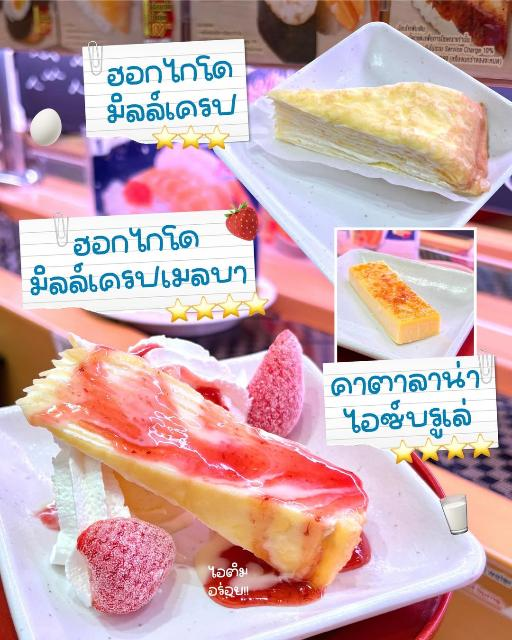janwhite: (9, 338, 457, 629), (230, 65, 503, 261), (325, 261, 499, 367)
